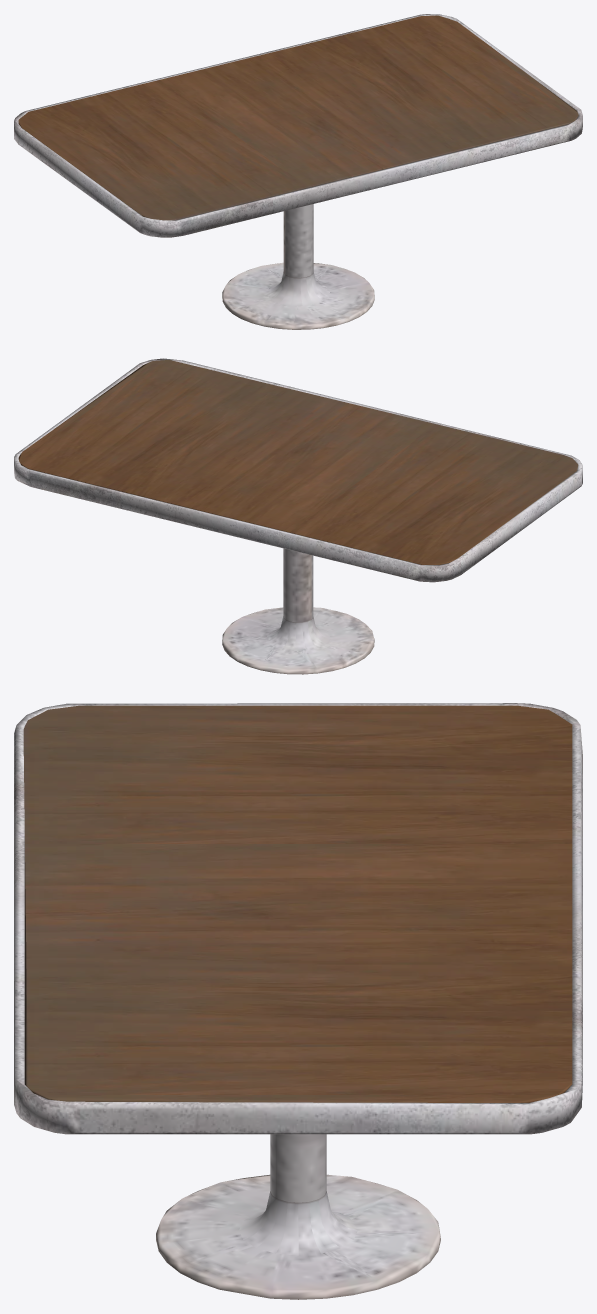
File: lab_table2.static.glb
3 views of the same model, one above another, from view 1: azimuth 30°, elevation 25°; view 2: azimuth 150°, elevation 25°; view 3: azimuth 270°, elevation 25° (orthographic). The views are drawn at different scales.
Parts seen in each view (by area): view 1: lab_table2.static; view 2: lab_table2.static; view 3: lab_table2.static.
Boxes of the visible parts, left/top/right/bottom form: lab_table2.static: left=14, top=14, right=582, bottom=329; lab_table2.static: left=14, top=358, right=582, bottom=674; lab_table2.static: left=14, top=703, right=582, bottom=1299.
Bounding box in the file's own units: 2.1 × 0.8145 × 1.25.
1 material, 1 textured.
